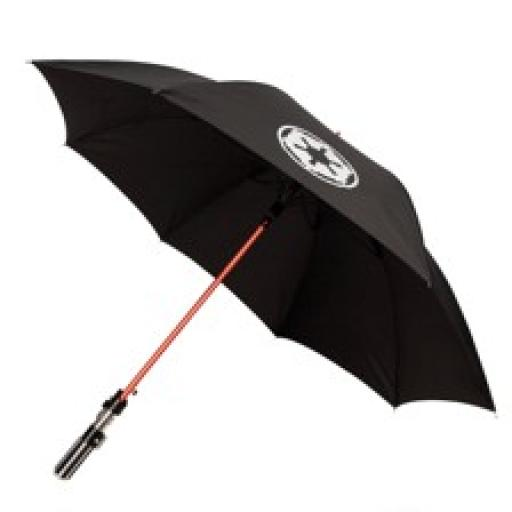lightsaber: (52, 228, 260, 482)
